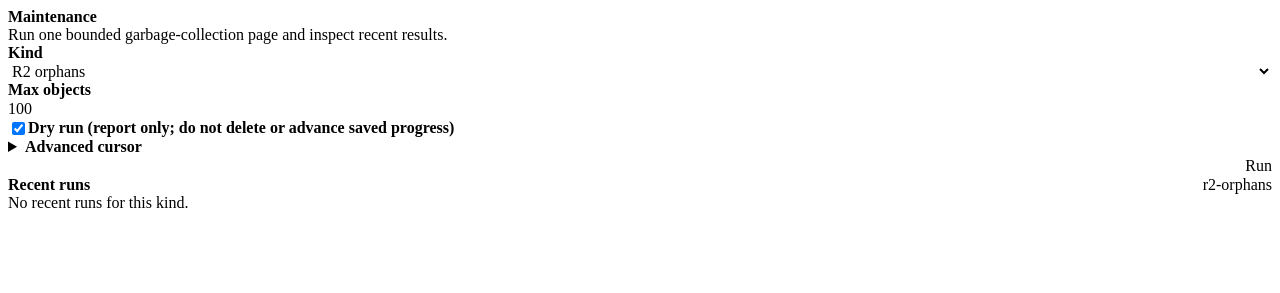
Test case: GcPanel › renders actionable 409 busy guidance
The image size is (1280, 293).
Step 1. Click the button "Run" → {"x": 1259, "y": 166}, box [1245,156,1272,176]
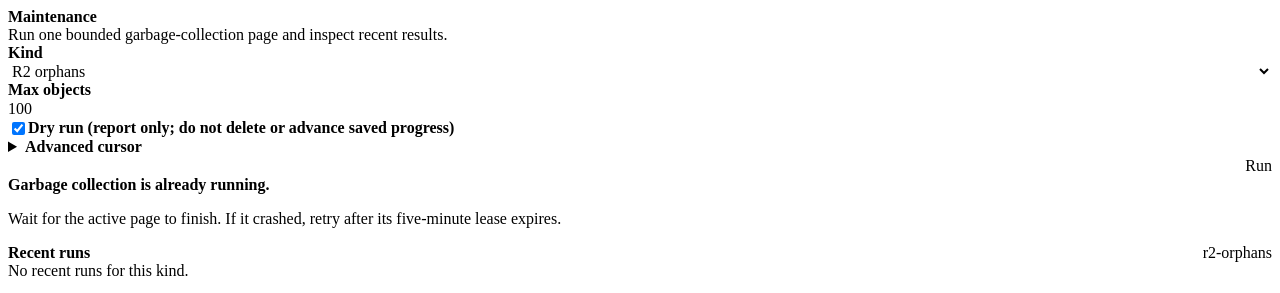
expect the text "five-minute lease expires" is shown: met, box [8,210,561,227]
